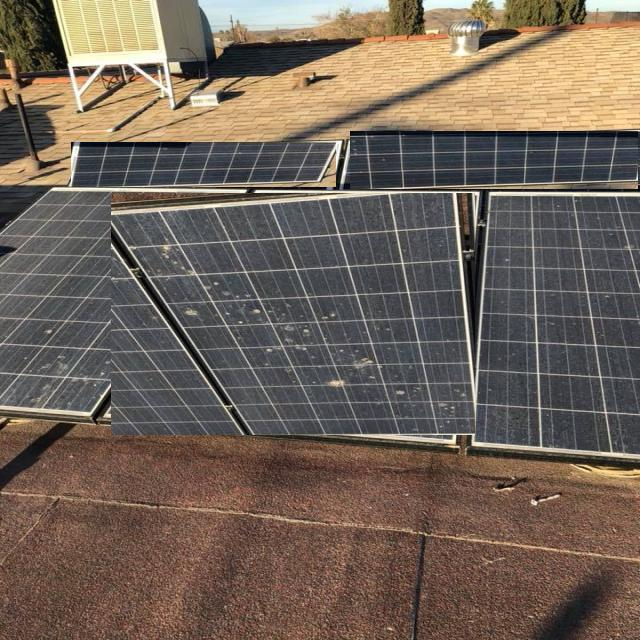Dusty: (111, 194, 475, 435), (0, 192, 242, 413), (478, 198, 640, 455)
